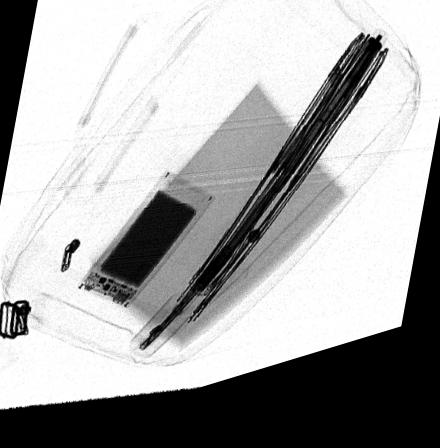Powerbank: (76, 180, 215, 317)
